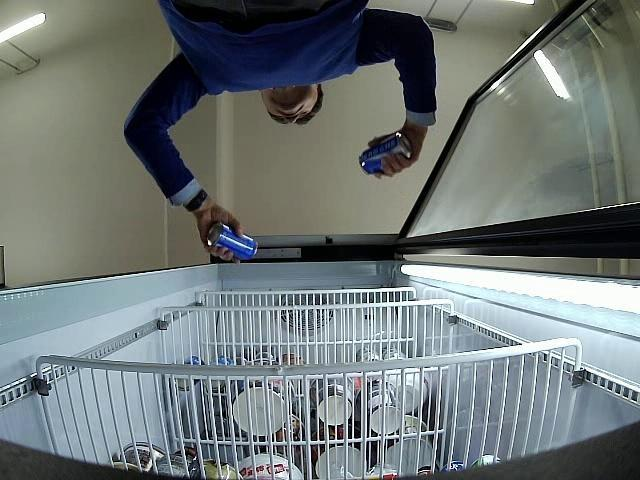13_pocariSweat: (359, 133, 412, 175), (208, 223, 258, 260)
